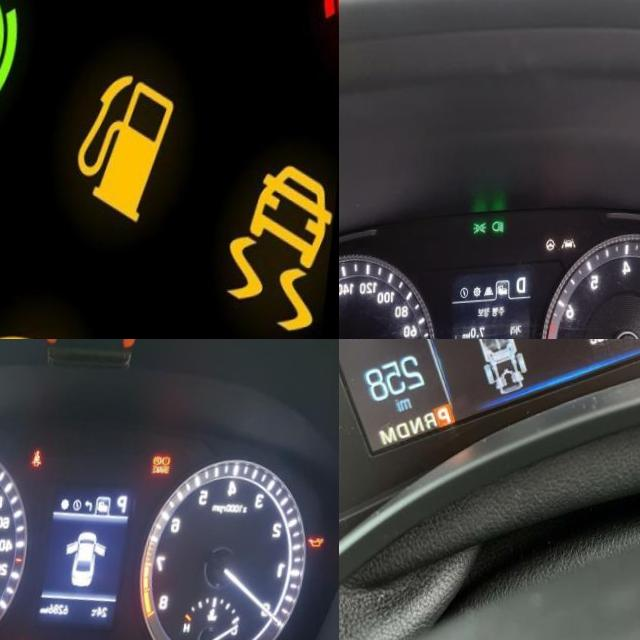LaneCenteringOff: (563, 241, 579, 254)
Low beam: (494, 222, 507, 237)
Low fuel level: (74, 72, 182, 233)
SideLamp: (474, 222, 489, 238)
